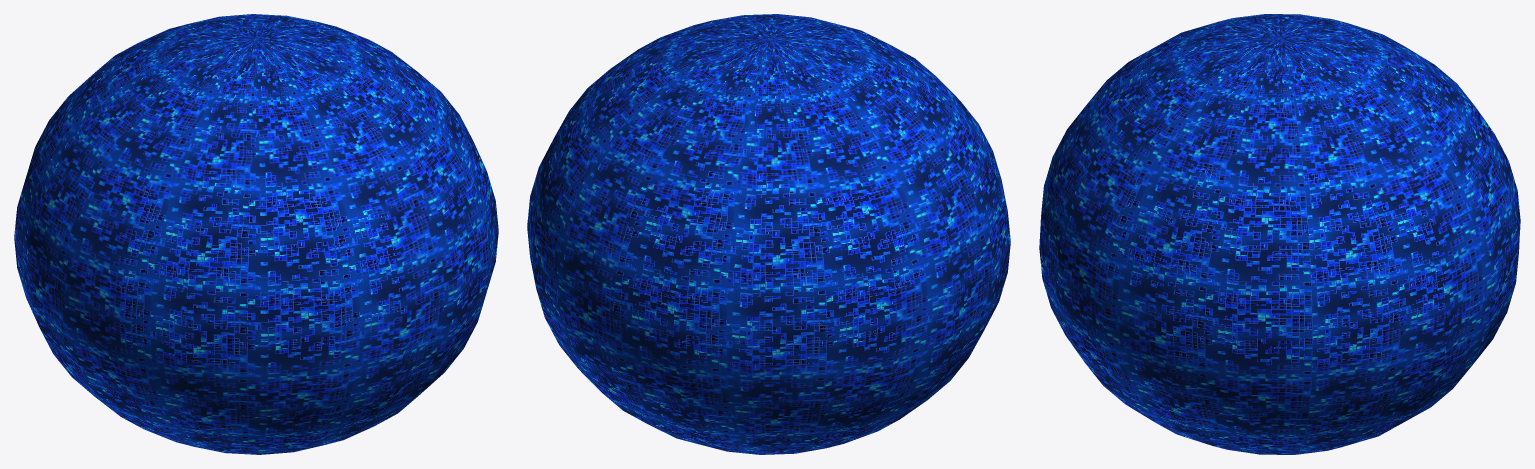
Rendered from BG_Battle_PVP_Base_01.fbx.
The picture shows the model from 3 angles, left to right: view 1: azimuth 30°, elevation 25°; view 2: azimuth 150°, elevation 25°; view 3: azimuth 270°, elevation 25°; orthographic projection.
Visible parts, largest first — view 1: Sphere001; view 2: Sphere001; view 3: Sphere001.
Part boxes in pixels (x1,y1,x2,y2): Sphere001: [14, 14, 498, 454]; Sphere001: [527, 14, 1010, 454]; Sphere001: [1039, 14, 1520, 454].
Bounding box in the file's own units: 160 × 144 × 160.
